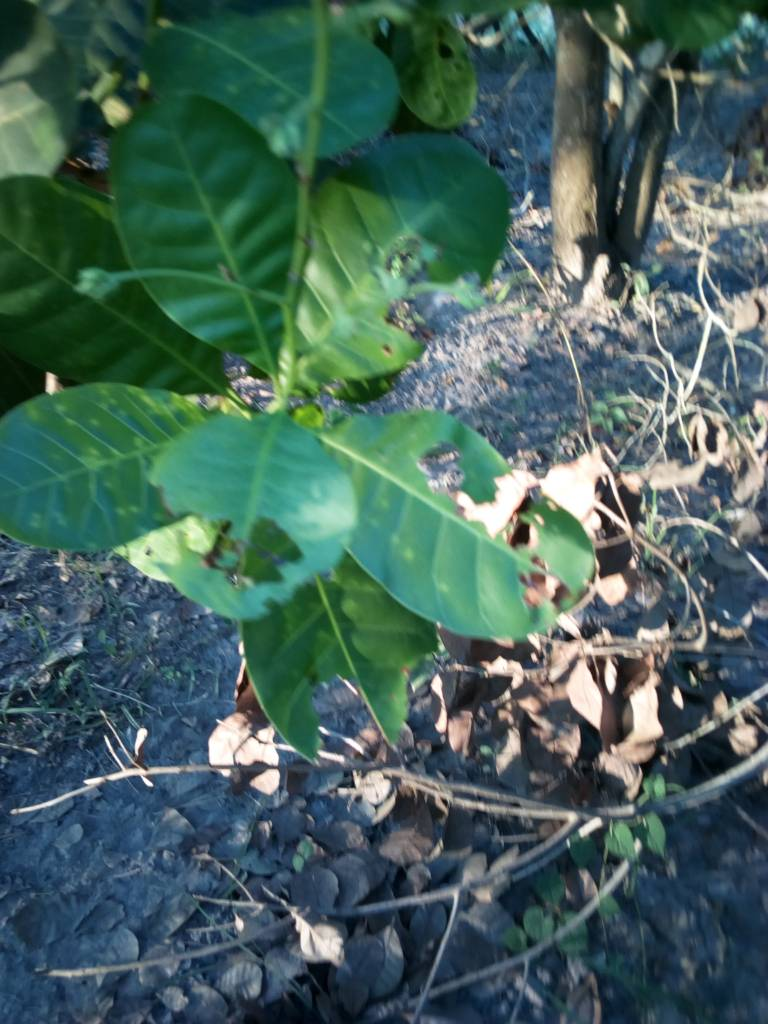Anoplonemis curvipes: (321, 413, 629, 649), (144, 397, 379, 616)
